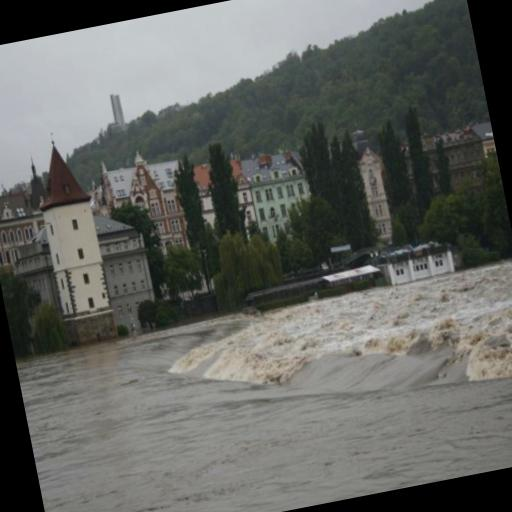flood: (16, 316, 512, 512)
house: (26, 136, 116, 318), (114, 148, 190, 251), (242, 146, 316, 238), (98, 207, 158, 307), (356, 143, 399, 246), (442, 122, 502, 189), (0, 190, 49, 272), (380, 233, 456, 285), (100, 156, 182, 202), (320, 262, 384, 294)
